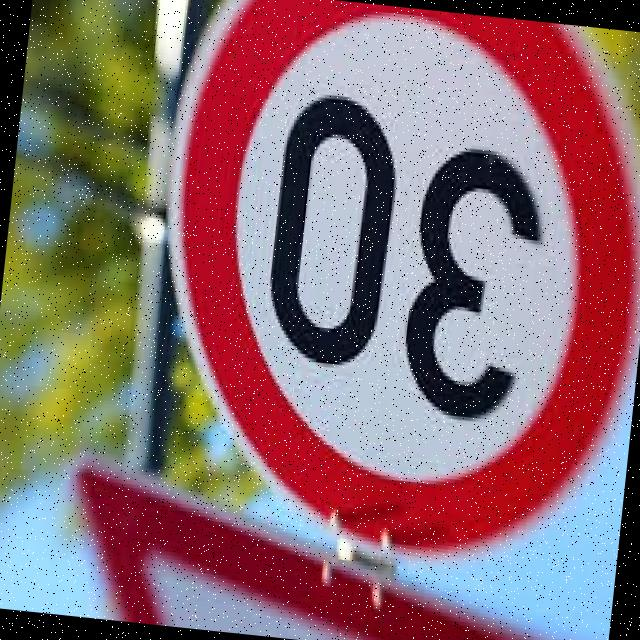speed_limit_30: (129, 0, 640, 590)
